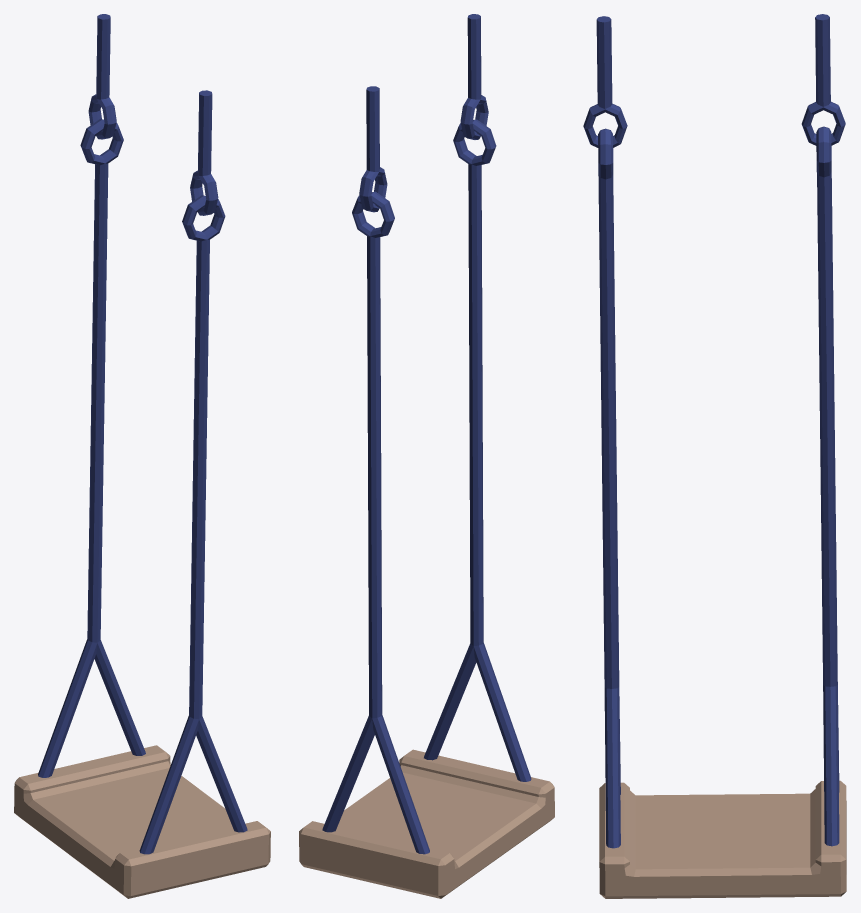
File: Playground_swings1.fbx
3 renders of one model, left to right at view 1: azimuth 30°, elevation 25°; view 2: azimuth 150°, elevation 25°; view 3: azimuth 270°, elevation 25°, orthographic. The views are drawn at different scales.
Parts seen in each view (by area): view 1: Playground_swings1; view 2: Playground_swings1; view 3: Playground_swings1.
Boxes of the visible parts, x1,y1,x2,y2 form: Playground_swings1: [14, 14, 270, 898]; Playground_swings1: [299, 14, 554, 898]; Playground_swings1: [583, 14, 846, 898].
Bounding box in the file's own units: 36.58 × 188 × 52.78.
